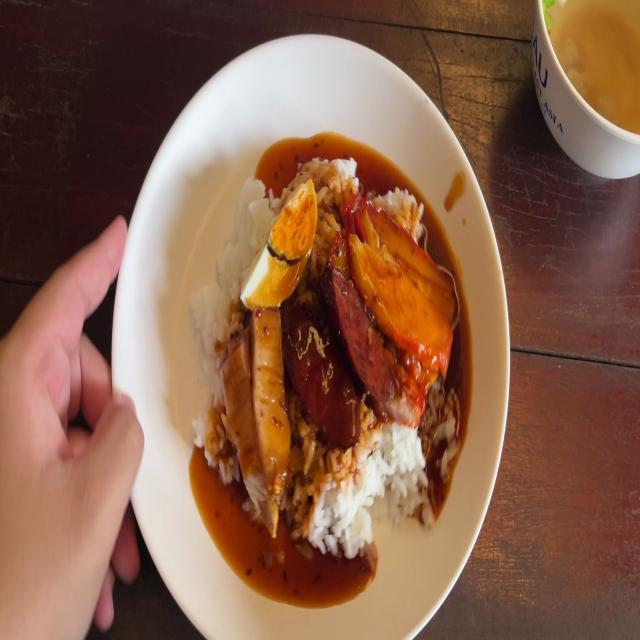red_pork_and_crispy_pork: (240, 172, 318, 307)
stir_fried_basil: (293, 273, 384, 444)
